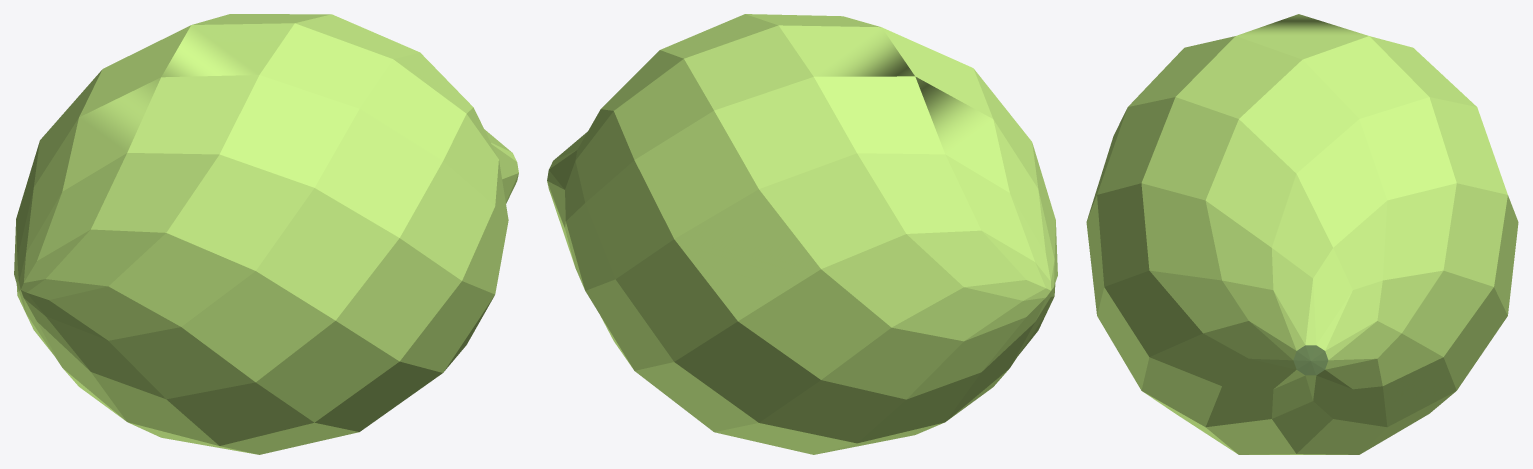
The model's file is Lime.glb.
The picture shows the model from 3 angles, left to right: view 1: azimuth 30°, elevation 25°; view 2: azimuth 150°, elevation 25°; view 3: azimuth 270°, elevation 25°; orthographic projection. The views are drawn at different scales.
Parts seen in each view (by area): view 1: Lime; view 2: Lime; view 3: Lime.
Boxes of the visible parts, x1=… form: Lime: x1=14, y1=14, x2=518, y2=454; Lime: x1=547, y1=14, x2=1057, y2=454; Lime: x1=1086, y1=14, x2=1518, y2=454.
Size of the model in its own units: 0.5463 by 0.4215 by 0.4215.
